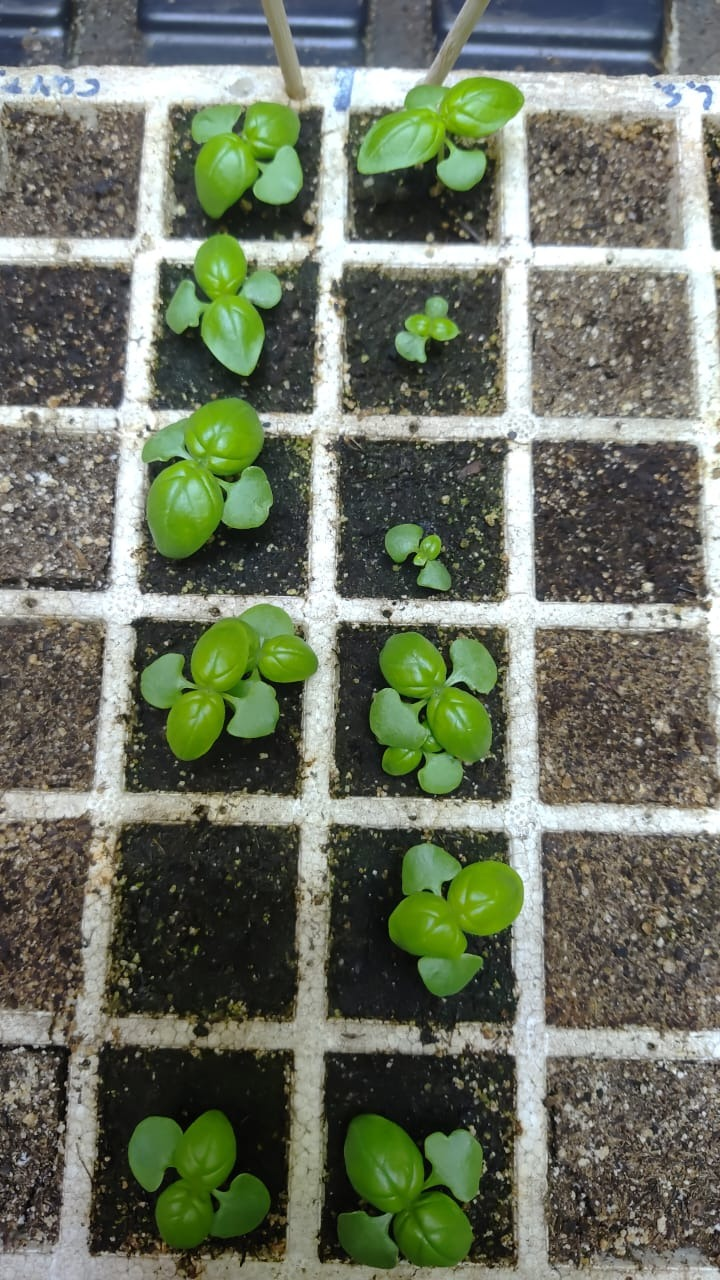Folha: (139, 602, 322, 763), (336, 1112, 486, 1274), (380, 833, 526, 996), (136, 393, 275, 562), (123, 1105, 272, 1253), (353, 74, 525, 194), (186, 98, 306, 218), (365, 627, 441, 708), (382, 520, 453, 591), (393, 293, 462, 364), (368, 687, 422, 743), (449, 635, 499, 693), (421, 955, 484, 998), (139, 652, 185, 707), (419, 752, 462, 795), (379, 744, 425, 777)
Germinacao: (301, 1029, 503, 1280), (112, 1030, 311, 1274), (348, 798, 494, 1040), (138, 602, 328, 786), (348, 609, 515, 818), (137, 403, 294, 582), (161, 229, 297, 409), (347, 70, 531, 198), (182, 94, 310, 222), (381, 523, 452, 590), (394, 294, 461, 361)
